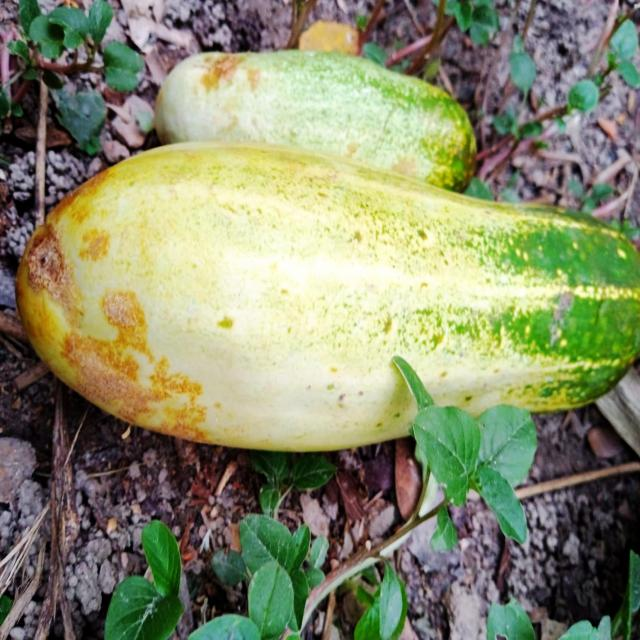Belly-Rot: (21, 163, 222, 447), (198, 43, 267, 103)
